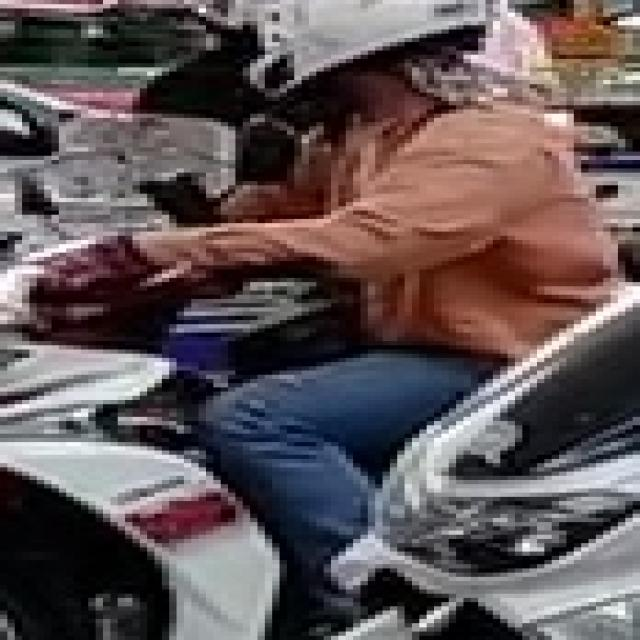helmet: (235, 0, 508, 97)
